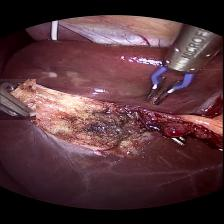Bipolar: (140, 58, 200, 106)
Grasper: (0, 78, 36, 119)
